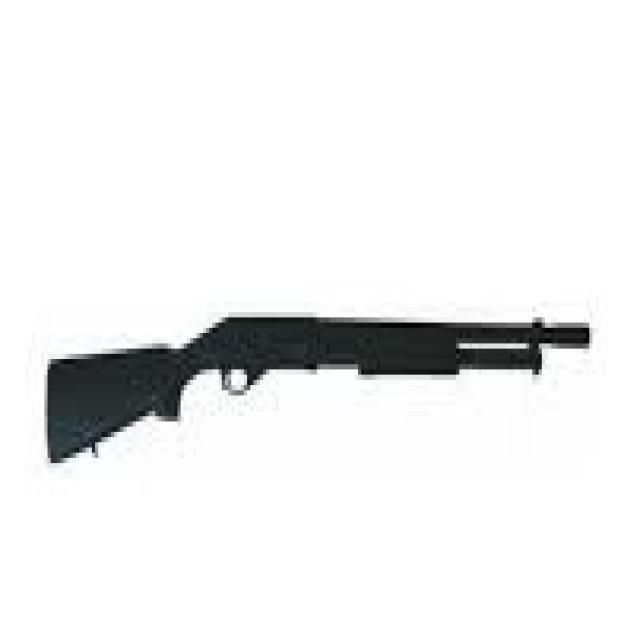rifle: (37, 298, 605, 485)
